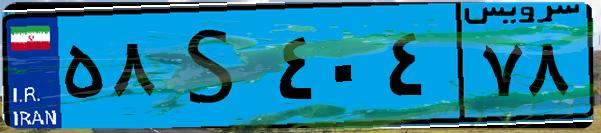0: (330, 28, 385, 110)
4: (270, 28, 330, 110), (385, 28, 445, 110)
5: (57, 26, 110, 100)
7: (475, 38, 525, 113)
8: (525, 38, 570, 115), (110, 28, 158, 98)
S: (158, 12, 270, 120)
